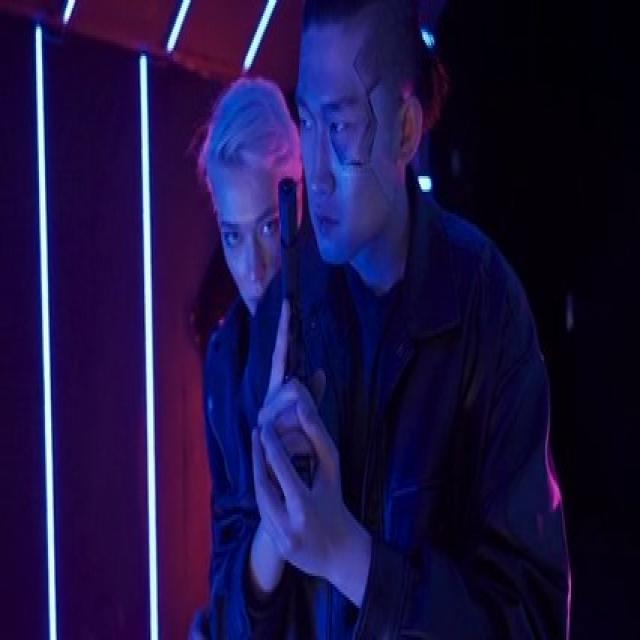Gun_Holder: (247, 168, 347, 558)
Person: (249, 2, 569, 640), (247, 214, 572, 640), (190, 75, 303, 629)
